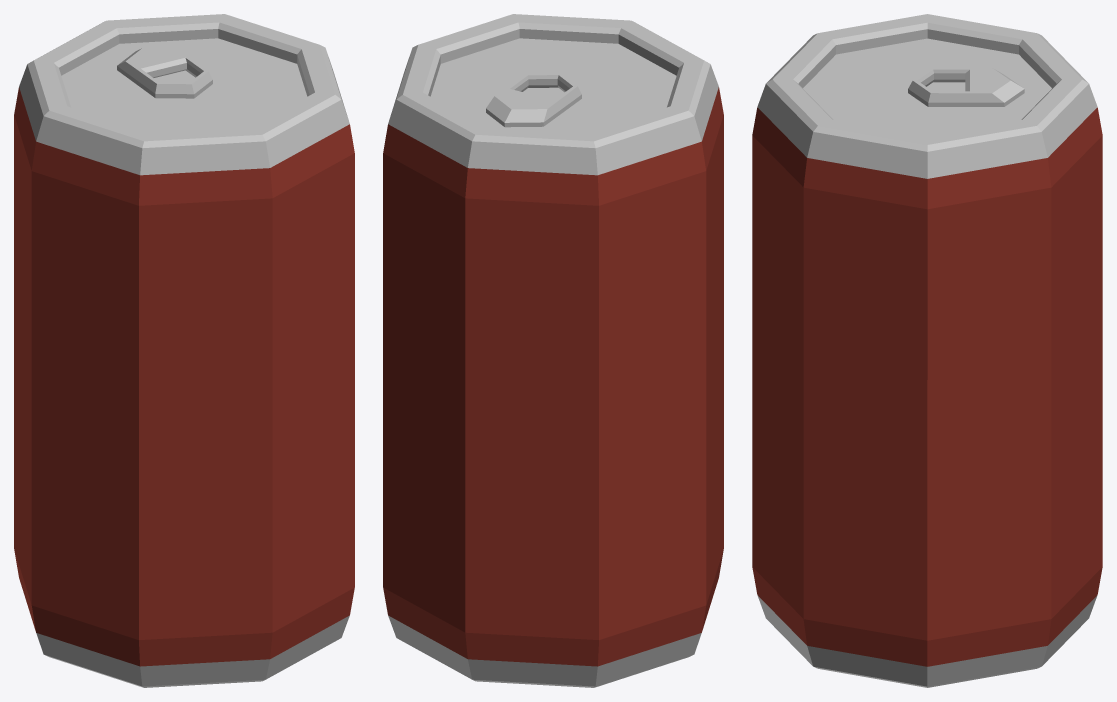
File: soda.fbx
3 views of the same model, side by side, from view 1: azimuth 30°, elevation 25°; view 2: azimuth 150°, elevation 25°; view 3: azimuth 270°, elevation 25° (orthographic).
Visible parts, largest first — view 1: Cylinder; view 2: Cylinder; view 3: Cylinder.
Boxes of the visible parts, box(x1,y1,x2,y2) form: Cylinder: box(14, 14, 354, 687); Cylinder: box(383, 14, 723, 687); Cylinder: box(752, 14, 1102, 687).
Size of the model in its own units: 9.96 by 17.03 by 9.96.
